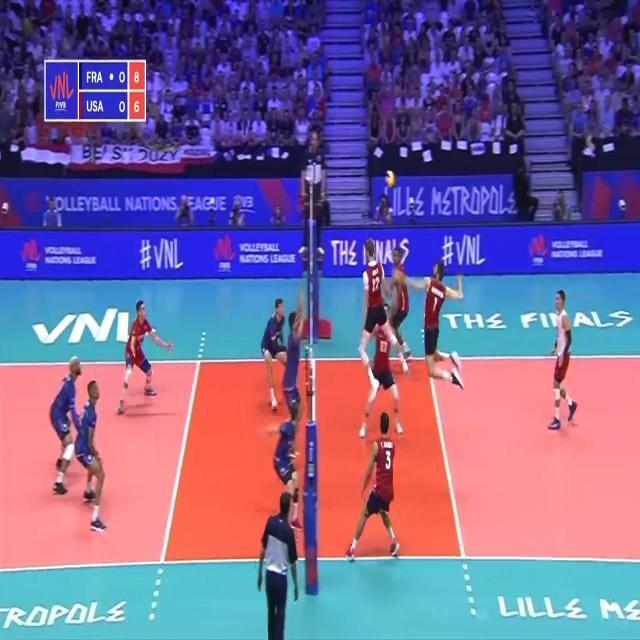volleyball: (384, 170, 396, 189)
